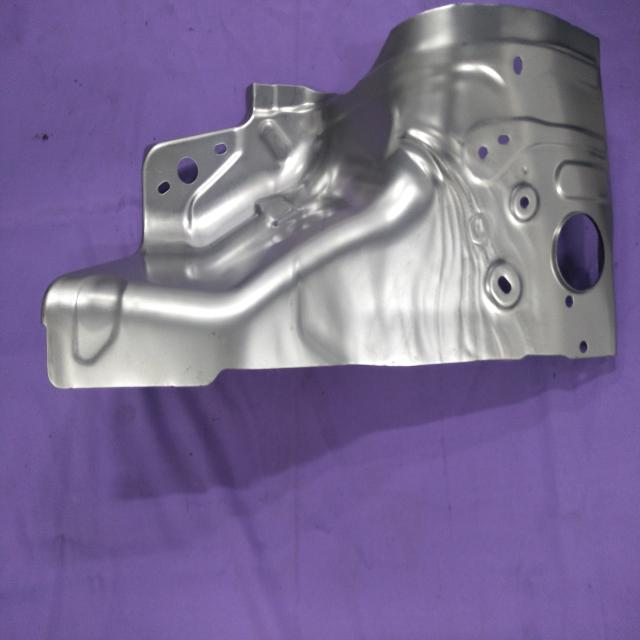Defect: (286, 19, 408, 119)
